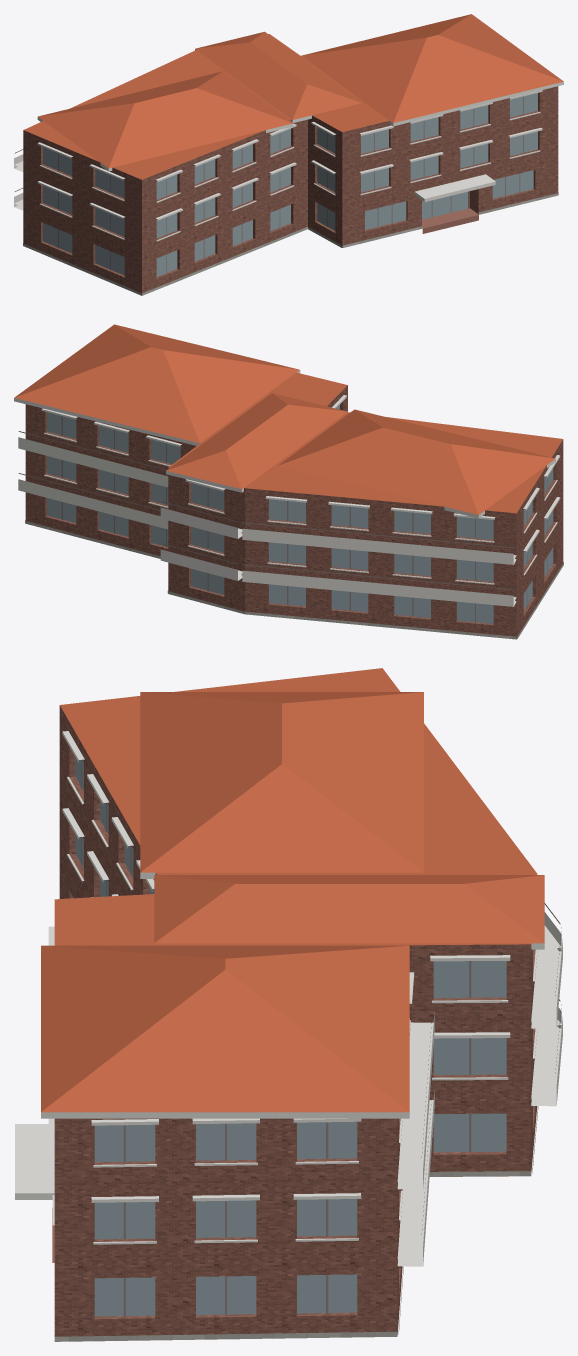
3 renders of one model, top to bottom at view 1: azimuth 30°, elevation 25°; view 2: azimuth 150°, elevation 25°; view 3: azimuth 270°, elevation 25°, orthographic. The views are drawn at different scales.
Parts seen in each view (by area): view 1: osm136243004__wall, osm136243004__roofAccent, osm136243004__glass, osm136243004__roof, osm136243004__trim, osm136243004__base, osm136243004__canopy, osm136243004__frame, osm136243004__entranceThreshold_0; view 2: osm136243004__roofAccent, osm136243004__wall, osm136243004__trim, osm136243004__glass, osm136243004__roof, osm136243004__frame, osm136243004__base; view 3: osm136243004__roofAccent, osm136243004__wall, osm136243004__glass, osm136243004__roof, osm136243004__trim, osm136243004__canopy, osm136243004__base, osm136243004__frame.
Boxes of the visible parts, x1,y1,x2,y2 form: osm136243004__wall: (23,86,558,295); osm136243004__roofAccent: (38,14,563,168); osm136243004__glass: (43,93,537,276); osm136243004__roof: (24,34,389,179); osm136243004__trim: (14,49,563,241); osm136243004__base: (23,193,558,295); osm136243004__canopy: (414,174,495,202); osm136243004__frame: (14,96,523,273); osm136243004__entranceThreshold_0: (422,208,478,233); osm136243004__roofAccent: (14,324,555,514); osm136243004__wall: (25,385,563,638); osm136243004__trim: (14,370,560,606); osm136243004__glass: (47,405,553,623); osm136243004__roof: (168,372,562,513); osm136243004__frame: (18,416,547,622); osm136243004__base: (25,520,563,639); osm136243004__roofAccent: (41,692,544,1112); osm136243004__wall: (54,705,537,1336); osm136243004__glass: (75,757,506,1316); osm136243004__roof: (54,668,537,1341); osm136243004__trim: (41,731,562,1266); osm136243004__canopy: (15,1124,54,1199); osm136243004__base: (54,1106,538,1341); osm136243004__frame: (81,760,561,1316).
Bounding box in the file's own units: 37.32 × 11.92 × 19.31.
10 materials, 2 textured.
